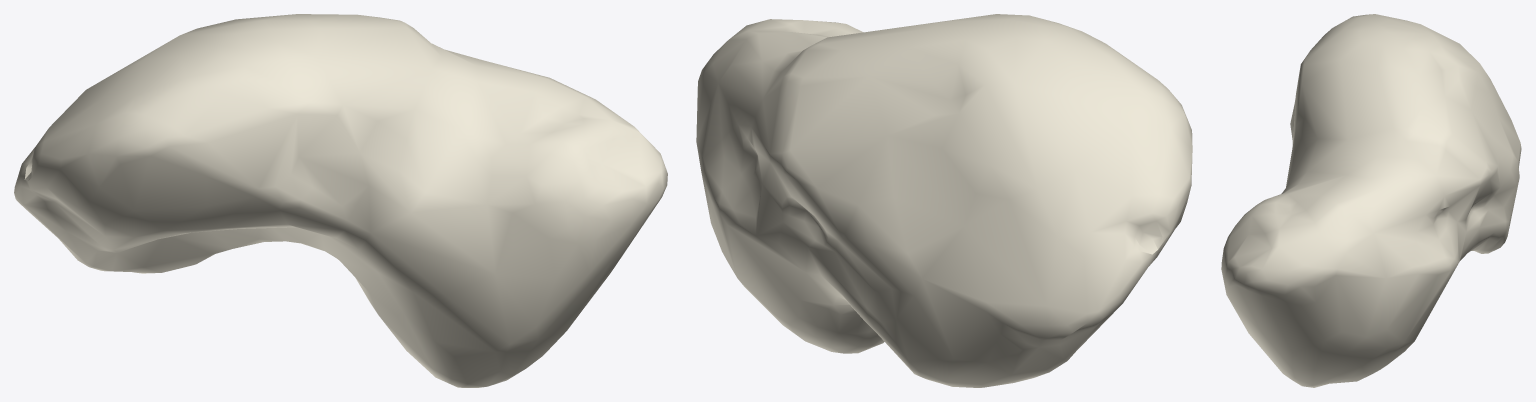
Rendered from fma24436.glb.
The picture shows the model from 3 angles, left to right: view 1: azimuth 30°, elevation 25°; view 2: azimuth 150°, elevation 25°; view 3: azimuth 270°, elevation 25°; orthographic projection. The views are drawn at different scales.
Visible parts, largest first — view 1: FMA24436; view 2: FMA24436; view 3: FMA24436.
Boxes of the visible parts, x1=… form: FMA24436: x1=14, y1=14, x2=667, y2=387; FMA24436: x1=696, y1=14, x2=1192, y2=387; FMA24436: x1=1221, y1=14, x2=1521, y2=387.
Bounding box in the file's own units: 0.0238 × 0.0157 × 0.0154.
